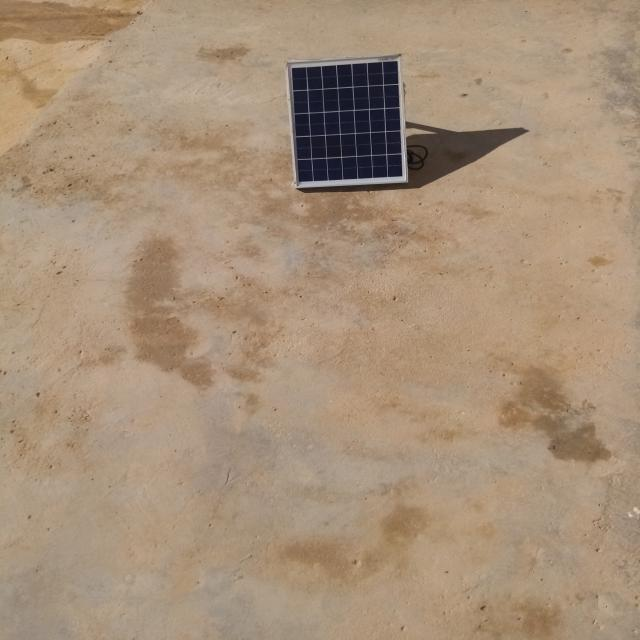no faulty: (285, 52, 408, 188)
